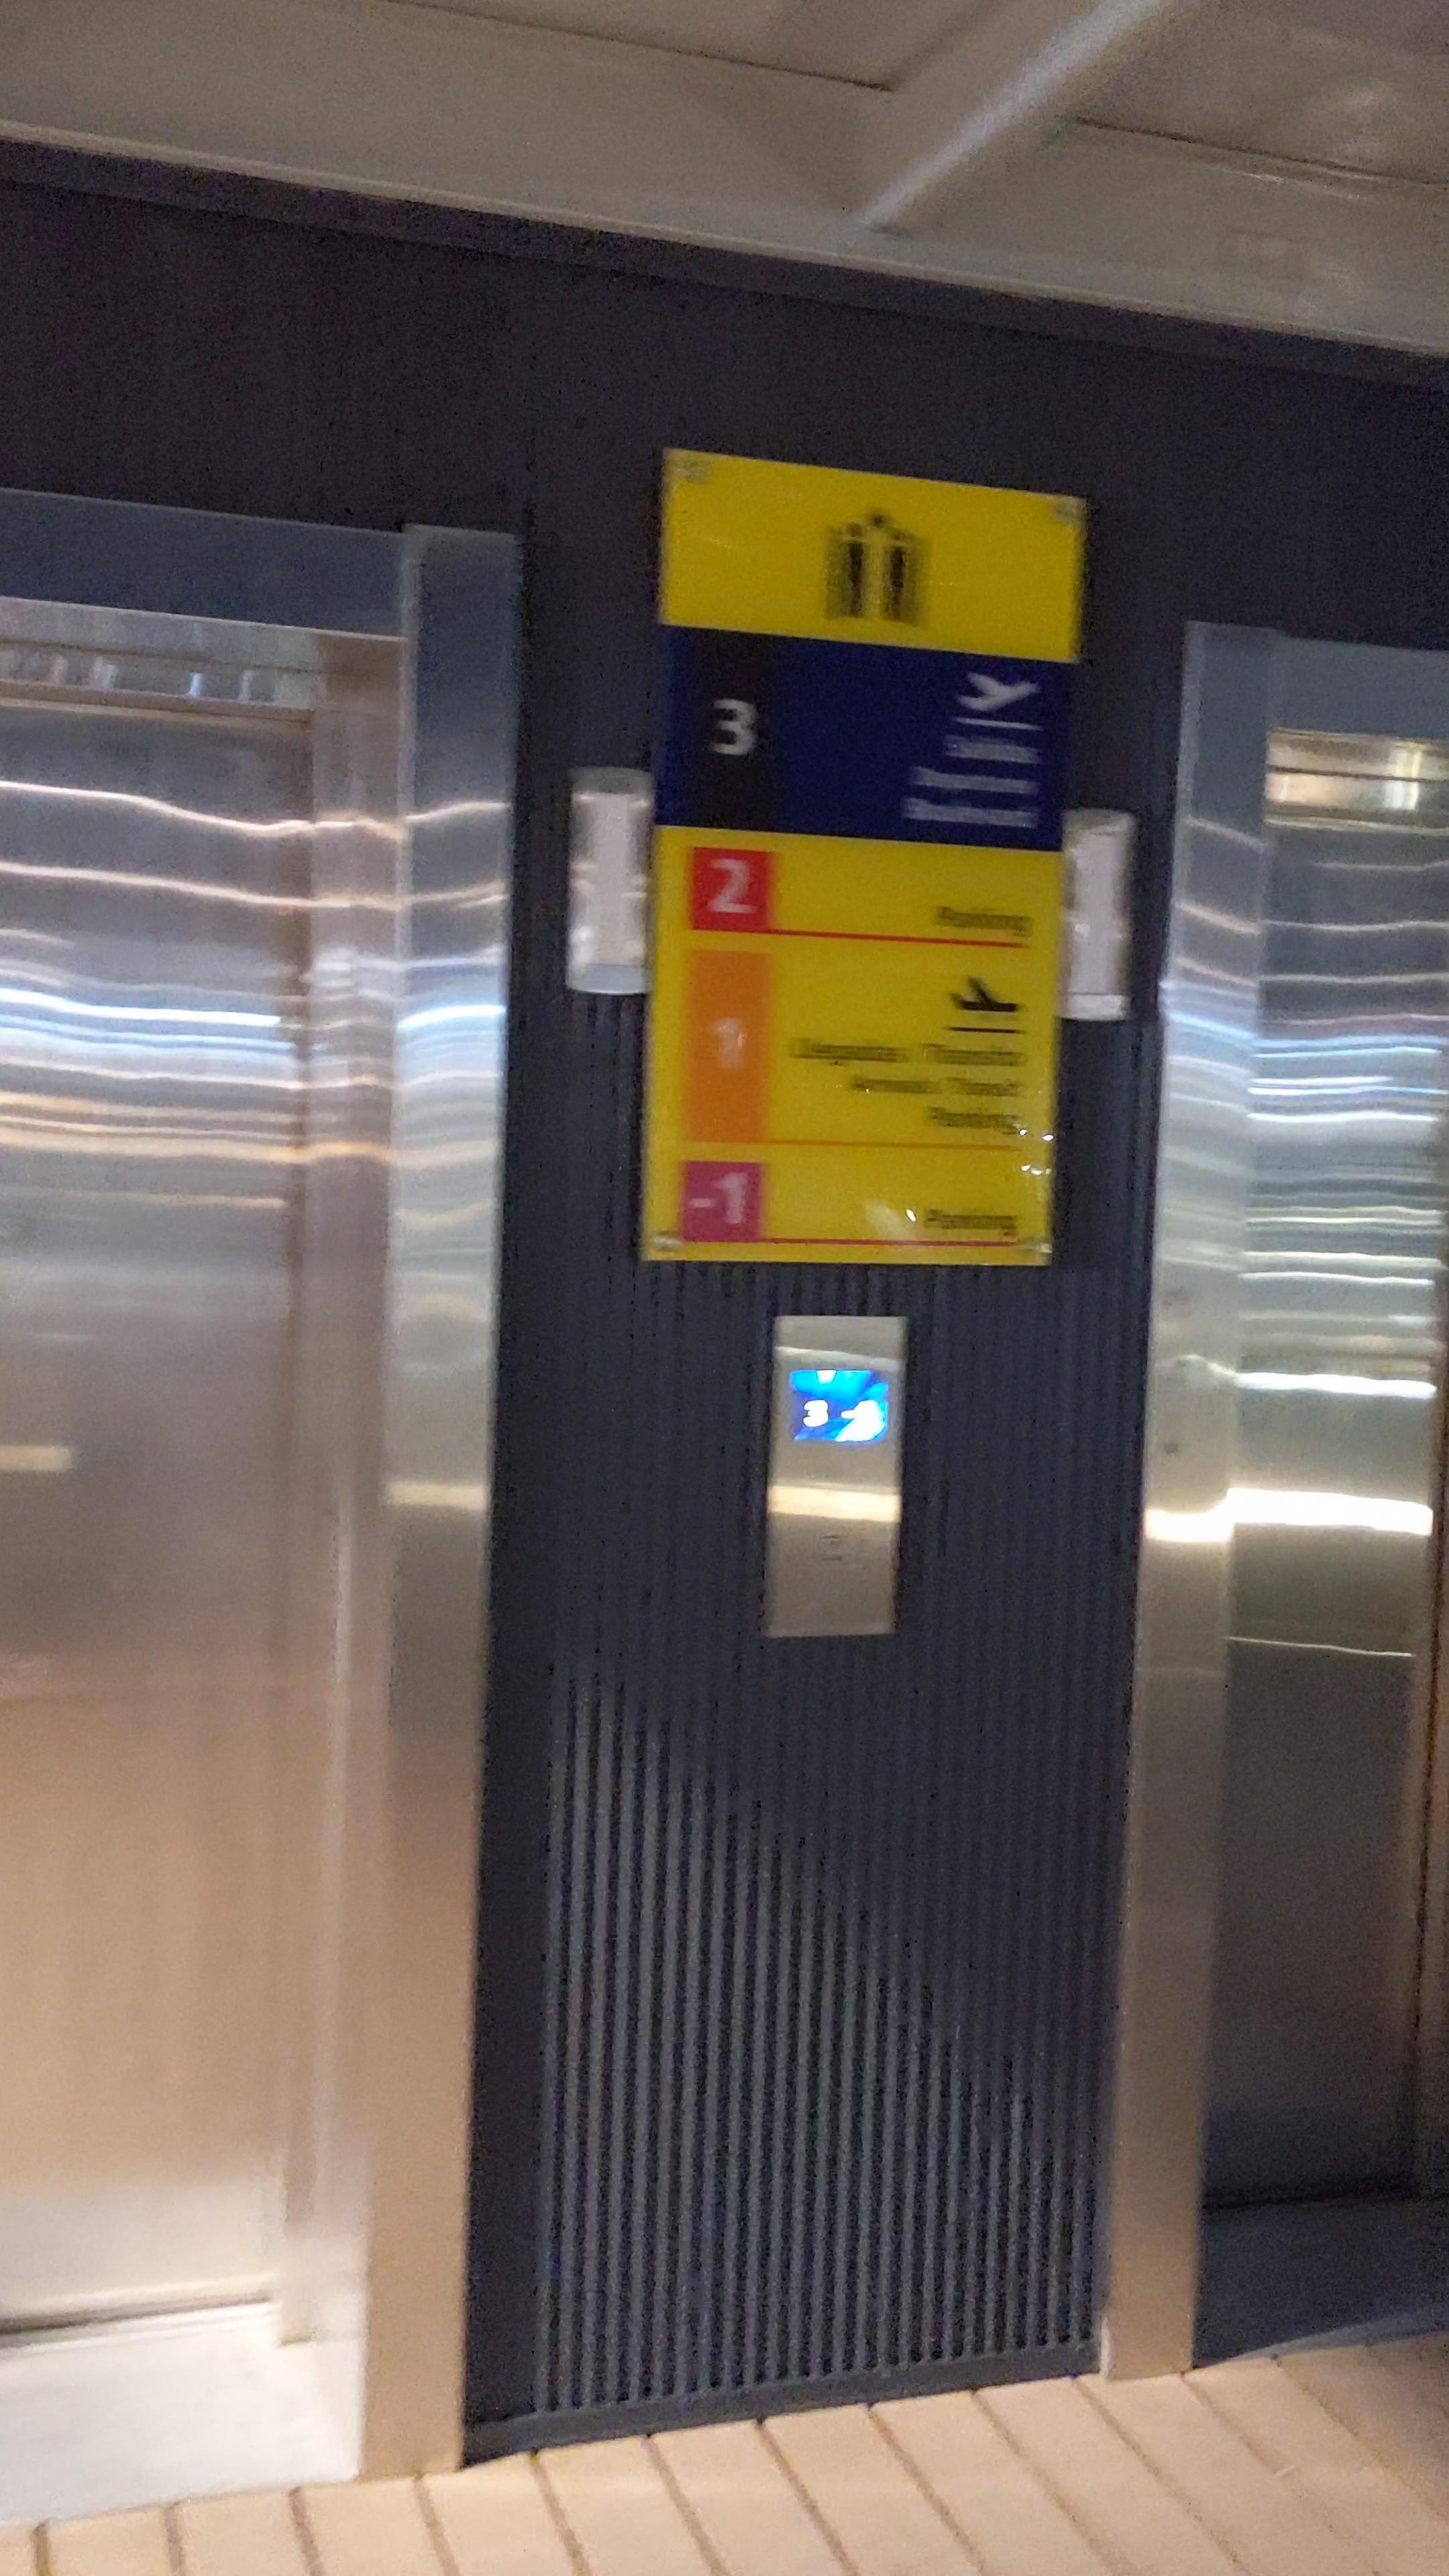airplane symbol: (954, 665, 1037, 718), (947, 971, 1028, 1019)
